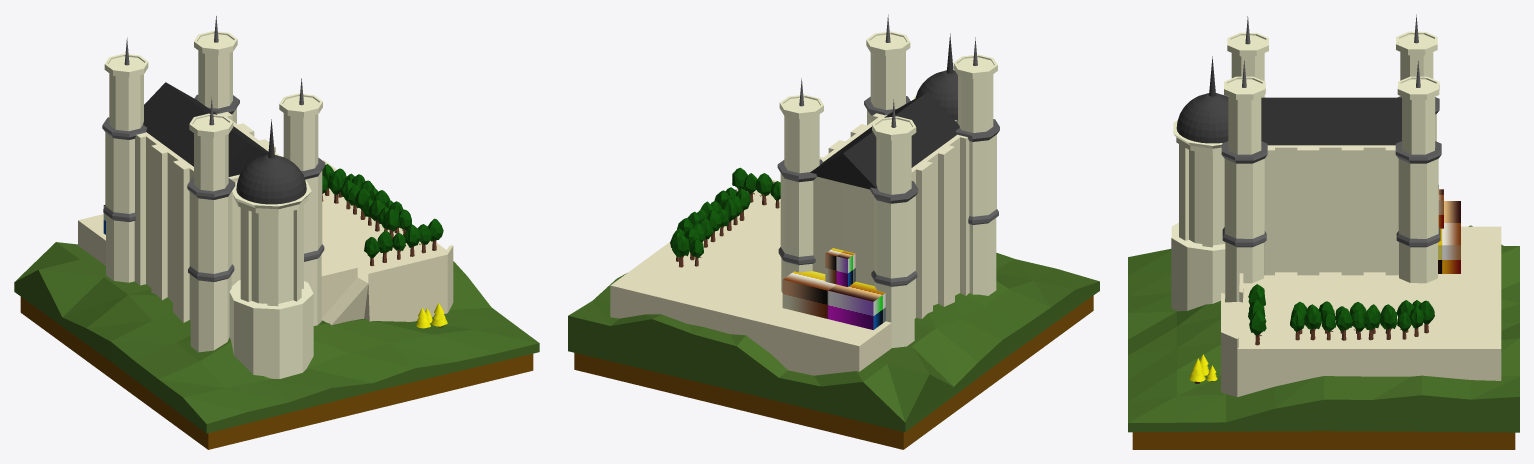
File: fourviere_v2.glb
3 renders of one model, left to right at view 1: azimuth 30°, elevation 25°; view 2: azimuth 150°, elevation 25°; view 3: azimuth 270°, elevation 25°, orthographic.
Parts seen in each view (by area): view 1: Map, Main Tower, Batiment, Tower.001, Tower.003, Tower, Tower.002; view 2: Map, Main Tower, Batiment, Tower.003, Tower.001, Tower.002, Tower; view 3: Main Tower, Map, Batiment, Tower, Tower.002, Tower.003, Tower.001.
Part boxes in pixels (x1,y1,x2,y2): Map: (14, 242, 539, 449); Main Tower: (78, 119, 453, 378); Batiment: (134, 82, 283, 322); Tower.001: (187, 97, 235, 352); Tower.003: (102, 37, 148, 282); Tower: (279, 78, 325, 325); Tower.002: (194, 16, 239, 123); Map: (568, 252, 1099, 449); Main Tower: (610, 33, 957, 375); Batiment: (810, 92, 969, 318); Tower.003: (870, 99, 918, 347); Tower.001: (953, 37, 999, 295); Tower.002: (777, 78, 823, 292); Tower: (864, 14, 910, 125); Main Tower: (1171, 56, 1501, 397); Map: (1128, 225, 1519, 449); Batiment: (1261, 97, 1401, 275); Tower: (1221, 60, 1267, 302); Tower.002: (1395, 61, 1441, 283); Tower.003: (1396, 14, 1439, 188); Tower.001: (1227, 16, 1268, 97).
Size of the model in its own units: 12.29 by 10.49 by 12.29.
Materials: 6 (6 with a texture image).
